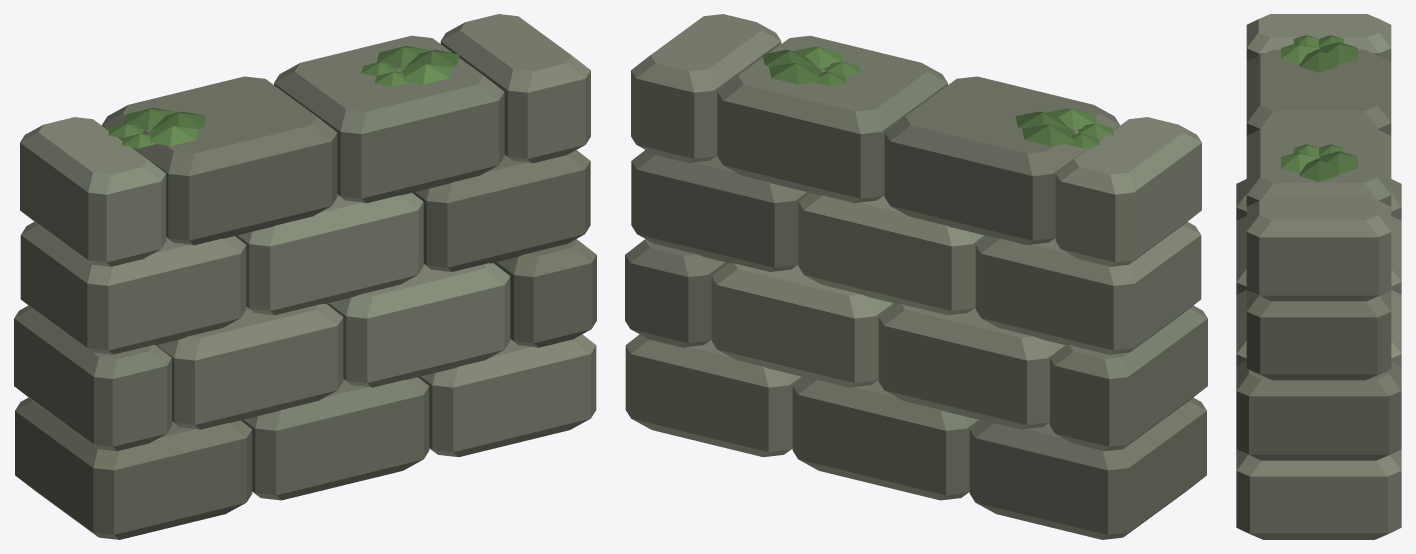
The model's file is stone_wall_straight.glb.
3 views of the same model, side by side, from view 1: azimuth 30°, elevation 25°; view 2: azimuth 150°, elevation 25°; view 3: azimuth 270°, elevation 25° (orthographic). The views are drawn at different scales.
Visible parts, largest first — view 1: geometry; view 2: geometry; view 3: geometry.
Part boxes in pixels (left/top/right/bottom): geometry: left=14, top=14, right=596, bottom=539; geometry: left=625, top=14, right=1207, bottom=539; geometry: left=1236, top=14, right=1401, bottom=539.
Bounding box in the file's own units: 0.994 × 0.7068 × 0.32.
